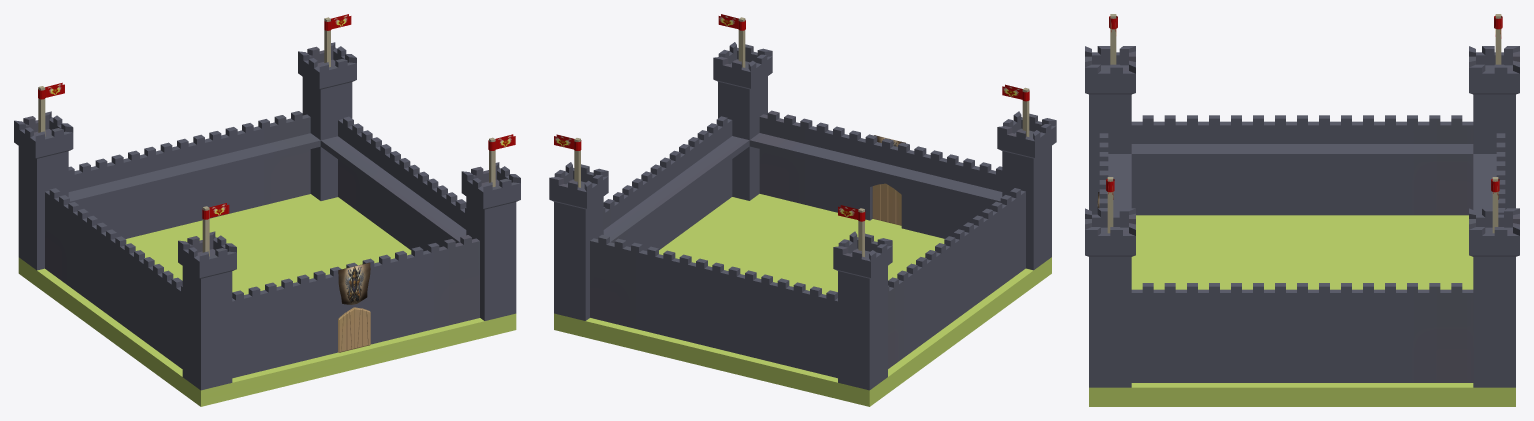
The model's file is LowPolyCastle2.fbx.
3 renders of one model, left to right at view 1: azimuth 30°, elevation 25°; view 2: azimuth 150°, elevation 25°; view 3: azimuth 270°, elevation 25°, orthographic. The views are drawn at different scales.
Parts seen in each view (by area): view 1: Cube, Cube.002, Plane; view 2: Cube, Cube.002; view 3: Cube.
Boxes of the visible parts, x1,y1,x2,y2 form: Cube: [14, 17, 520, 406]; Cube.002: [338, 307, 370, 352]; Plane: [338, 262, 370, 304]; Cube: [549, 17, 1056, 406]; Cube.002: [872, 183, 901, 225]; Cube: [1085, 14, 1519, 406].
Size of the model in its own units: 2066 by 1139 by 2038.
